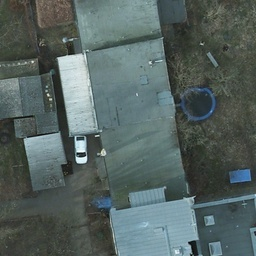car: (70, 133, 92, 166)
